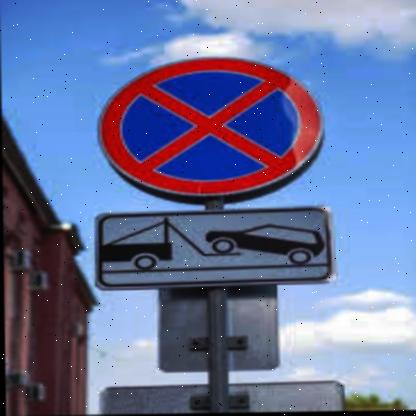No stopping: (104, 56, 326, 202)
